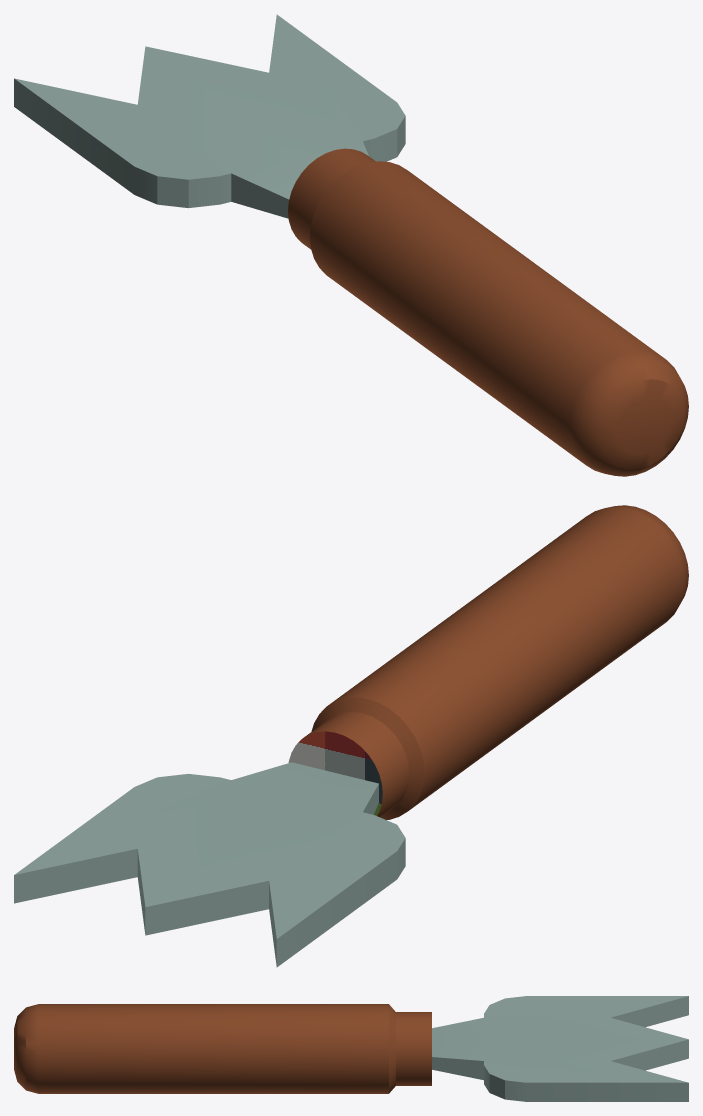
Rendered from Fork.fbx.
3 renders of one model, top to bottom at view 1: azimuth 30°, elevation 25°; view 2: azimuth 150°, elevation 25°; view 3: azimuth 270°, elevation 25°, orthographic. The views are drawn at different scales.
Visible parts, largest first — view 1: Cube; view 2: Cube; view 3: Cube.
Boxes of the visible parts, box(x1,y1,x2,y2) form: Cube: box(14, 14, 688, 476); Cube: box(14, 505, 688, 967); Cube: box(14, 996, 688, 1101).
Size of the model in its own units: 200 by 87.54 by 658.
